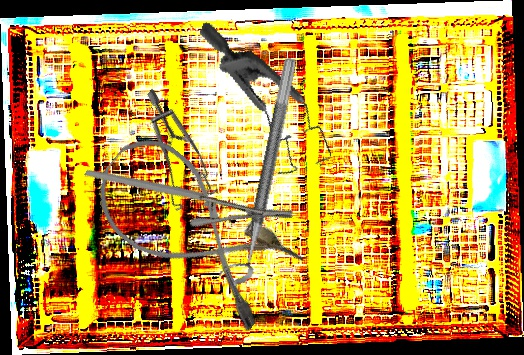Cannula: (78, 123, 309, 337)
Fixation Ring: (215, 52, 300, 291)
Needle Holder: (84, 108, 296, 278)
Speculum: (163, 21, 360, 189), (101, 88, 241, 223)
